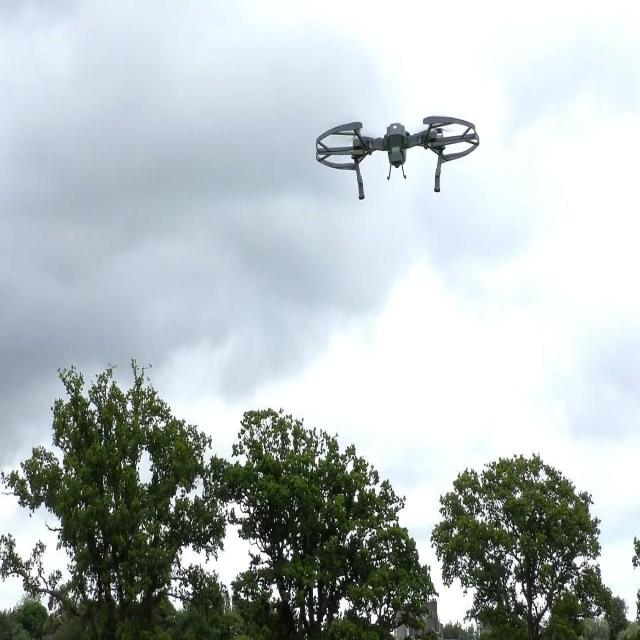drone: (316, 111, 481, 200)
